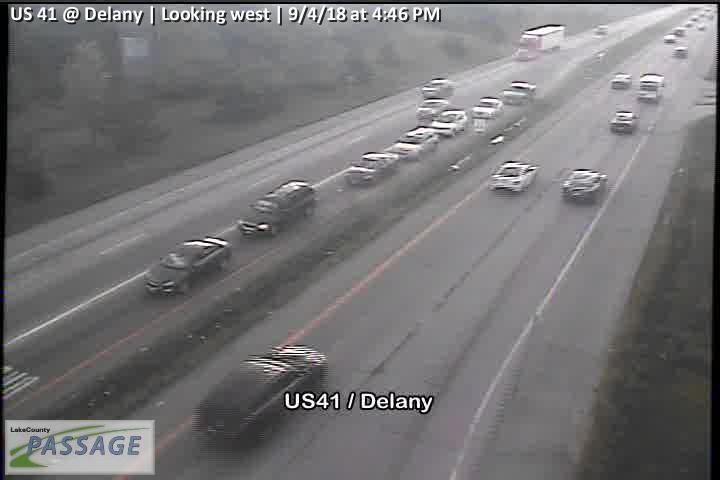SUV: (195, 343, 329, 449), (237, 180, 317, 240), (343, 152, 397, 184), (392, 127, 438, 162), (432, 109, 470, 139), (421, 77, 458, 99), (470, 96, 504, 118)
Sedan: (142, 235, 235, 298), (488, 159, 541, 195), (561, 168, 607, 202), (608, 109, 640, 135), (416, 98, 451, 119), (512, 45, 536, 60), (611, 72, 631, 88), (593, 23, 612, 36)
Truck: (520, 24, 565, 51), (636, 70, 666, 103), (501, 80, 538, 106)
